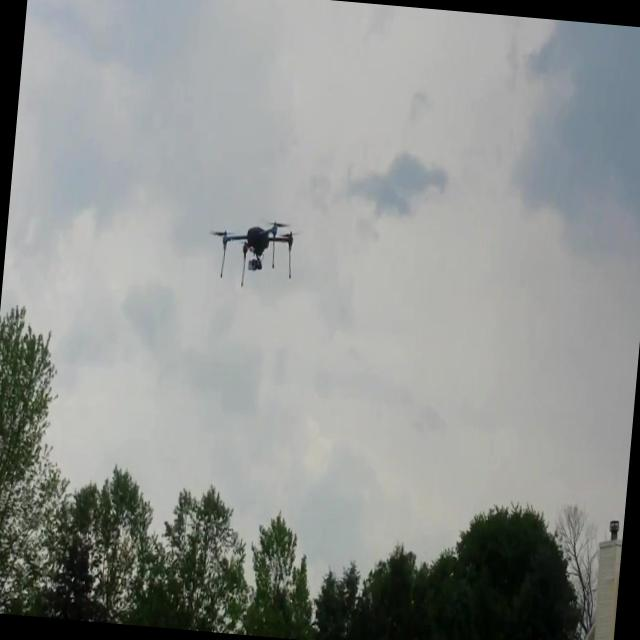drone: (200, 210, 302, 292)
